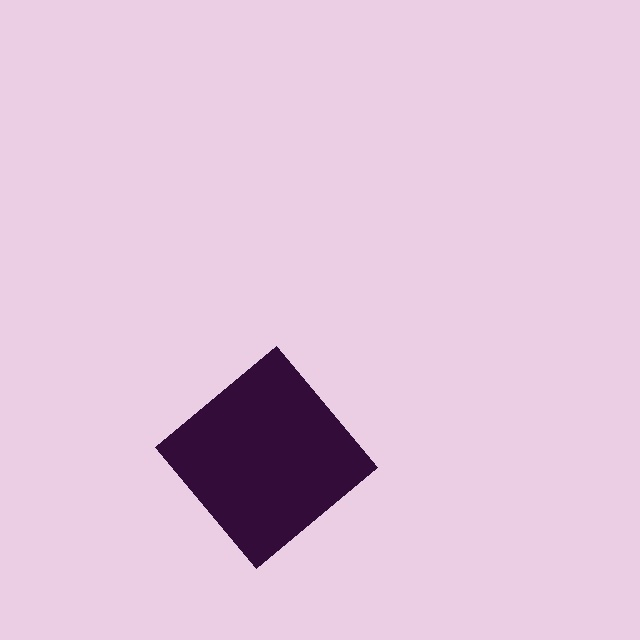square: (154, 346, 378, 569)
